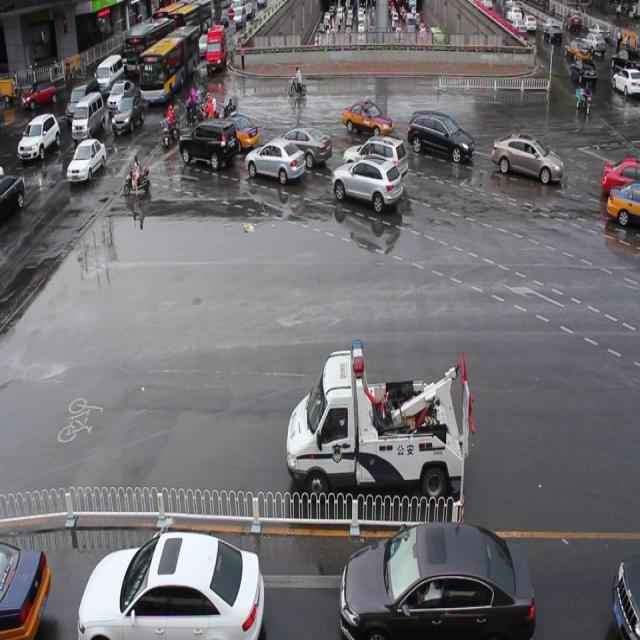bus: (285, 338, 464, 498)
car: (490, 129, 562, 186), (332, 156, 401, 215), (406, 107, 474, 164), (342, 132, 408, 184), (266, 123, 332, 169), (244, 137, 305, 183), (340, 98, 393, 138), (604, 179, 640, 230), (213, 114, 259, 152), (600, 158, 640, 199)
truck: (179, 118, 237, 168)
